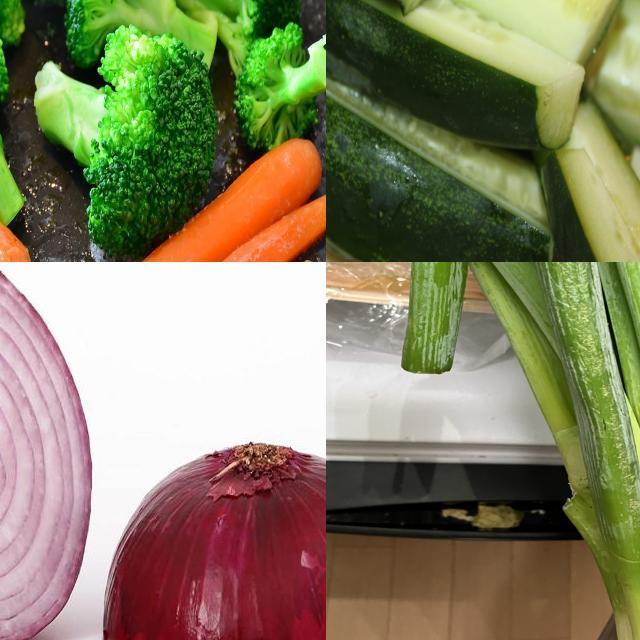carrot: (43, 142, 327, 263)
cucumber: (327, 42, 552, 263), (327, 1, 547, 152)
onion: (390, 263, 640, 640), (106, 439, 327, 640), (1, 263, 92, 640)
